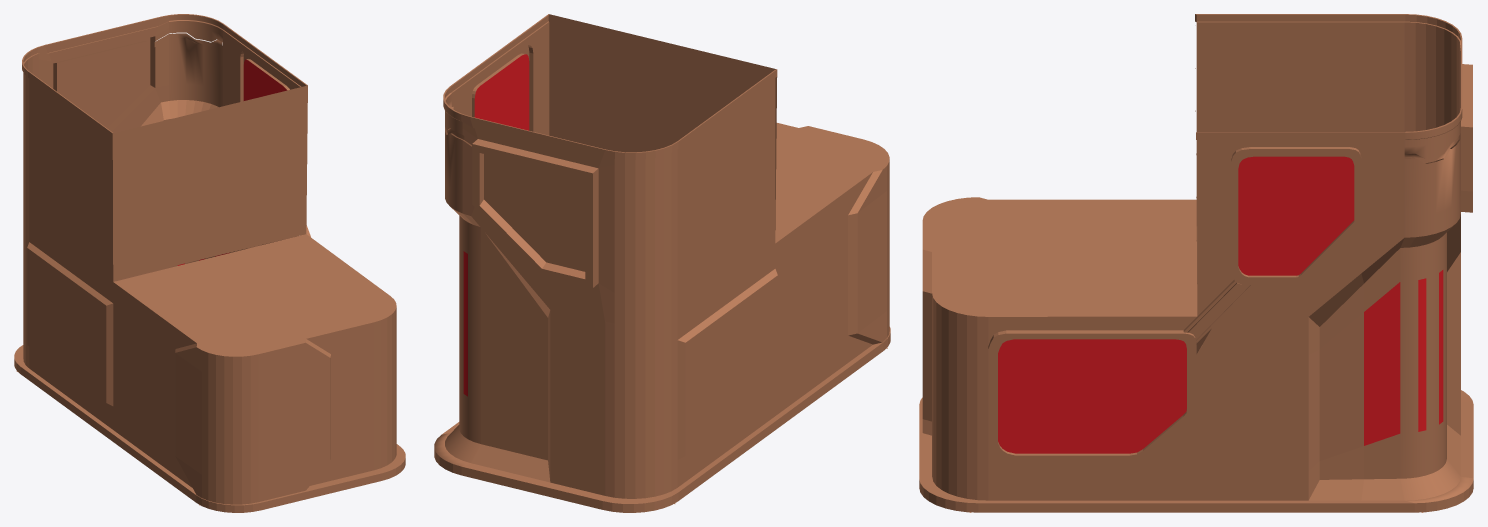
Rendered from Cub.001.fbx.
The picture shows the model from 3 angles, left to right: view 1: azimuth 30°, elevation 25°; view 2: azimuth 150°, elevation 25°; view 3: azimuth 270°, elevation 25°; orthographic projection. The views are drawn at different scales.
Visible parts, largest first — view 1: Cub.001; view 2: Cub.001; view 3: Cub.001.
Part boxes in pixels (box(x1,y1,x2,y2)): Cub.001: box(14, 14, 405, 512); Cub.001: box(434, 14, 890, 512); Cub.001: box(919, 14, 1473, 512).
Size of the model in its own units: 290 by 412 by 548.
